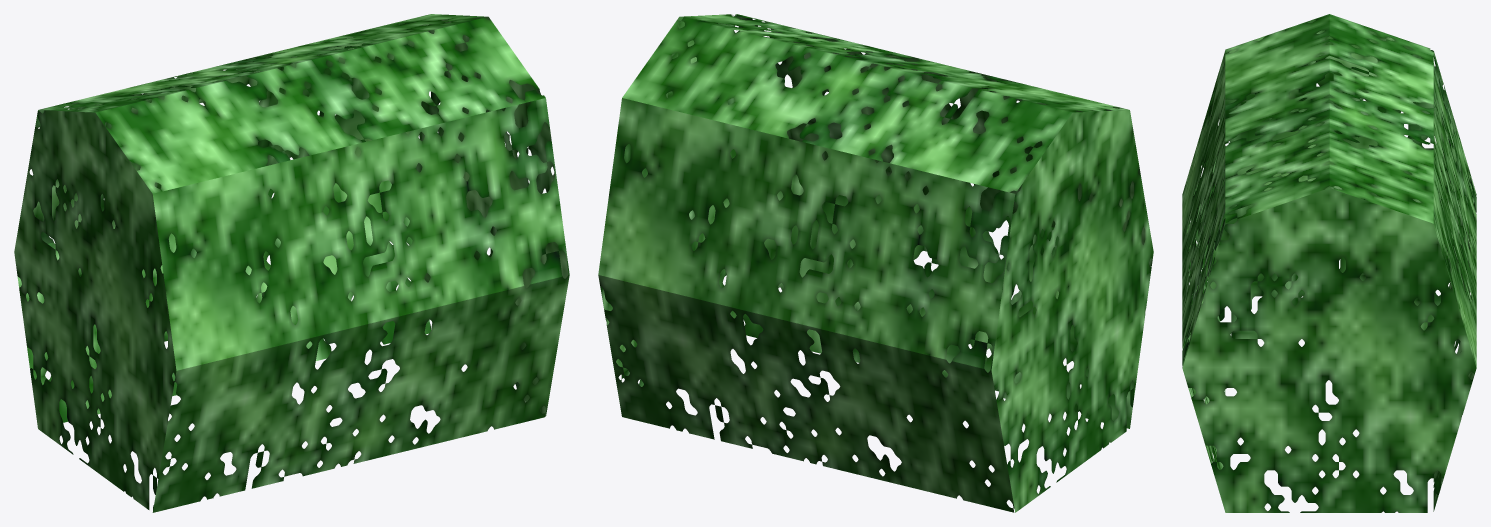
File: bush_long_half_spring.fbx
The picture shows the model from 3 angles, left to right: view 1: azimuth 30°, elevation 25°; view 2: azimuth 150°, elevation 25°; view 3: azimuth 270°, elevation 25°; orthographic projection. The views are drawn at different scales.
Visible parts, largest first — view 1: bush_long_half_spring; view 2: bush_long_half_spring; view 3: bush_long_half_spring.
Part boxes in pixels (box(x1,y1,x2,y2)): bush_long_half_spring: box(14, 14, 569, 512); bush_long_half_spring: box(598, 14, 1153, 512); bush_long_half_spring: box(1182, 14, 1476, 512).
Size of the model in its own units: 101 by 87.65 by 71.91.
Materials: 1 (1 with a texture image).
